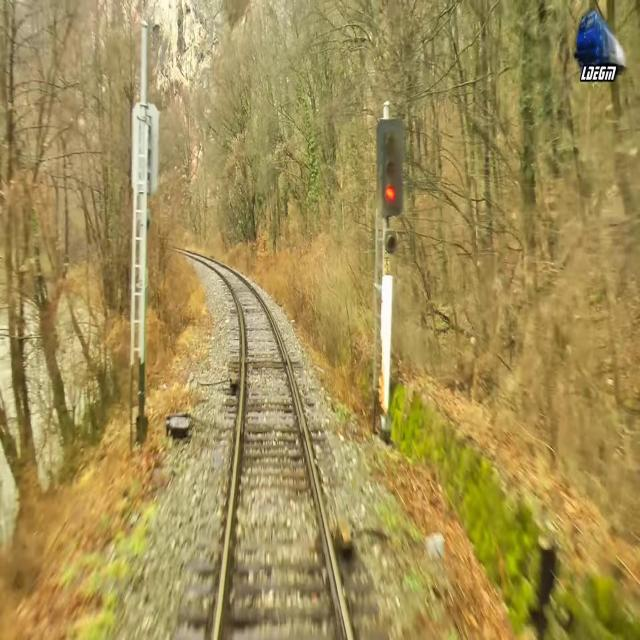rail-track: (168, 246, 348, 639)
